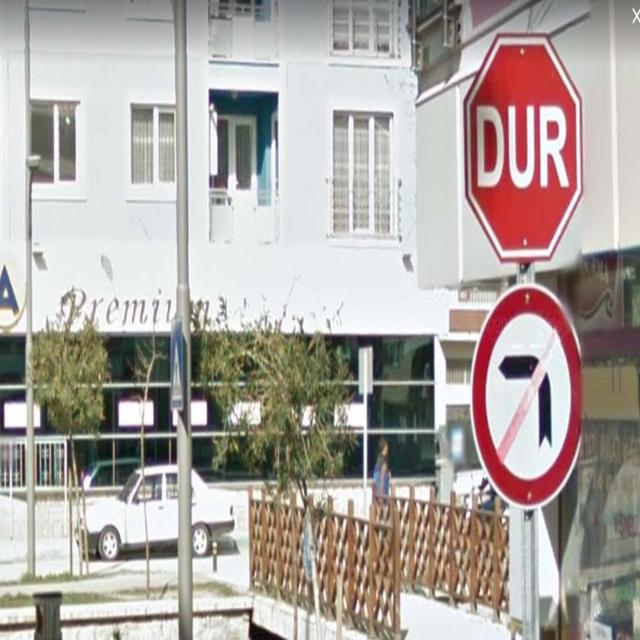dur: (464, 33, 586, 264)
soladonulmez: (470, 282, 586, 509)
